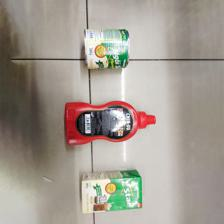Chinsu: (66, 101, 158, 149)
NSPN_Hop: (79, 168, 144, 215)
NSPN_Lon: (84, 29, 130, 69)
